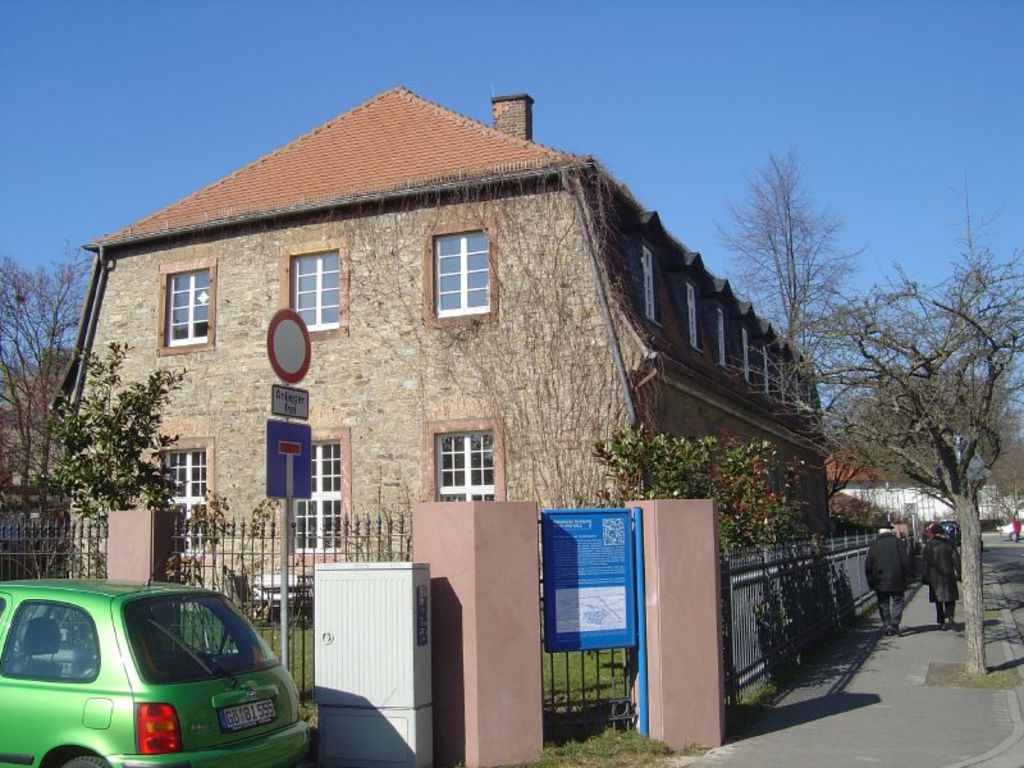Car: (0, 579, 308, 766), (999, 518, 1022, 541)
